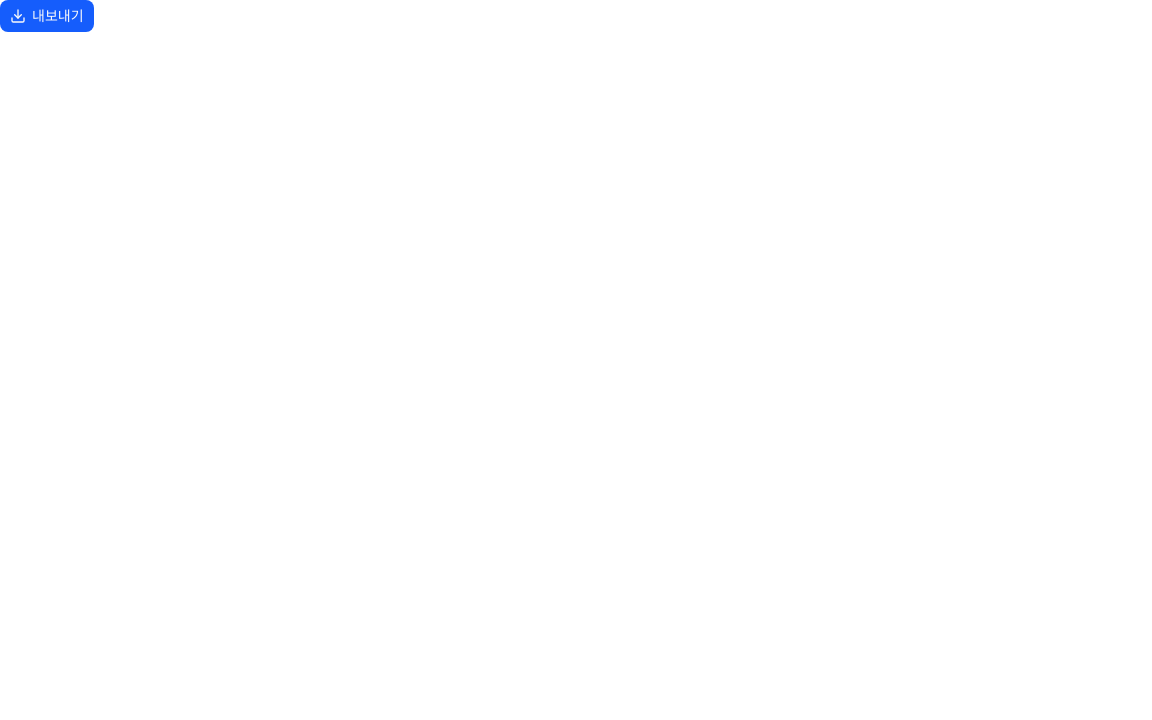
Test: 내보내기 › H.264가 아닌 코덱으로 내보내면 재생 호환성을 안내한다
The width and height of the screenshot is (1152, 720).
Click the button "내보내기". click: (47, 16)
box: [0, 0, 94, 32]
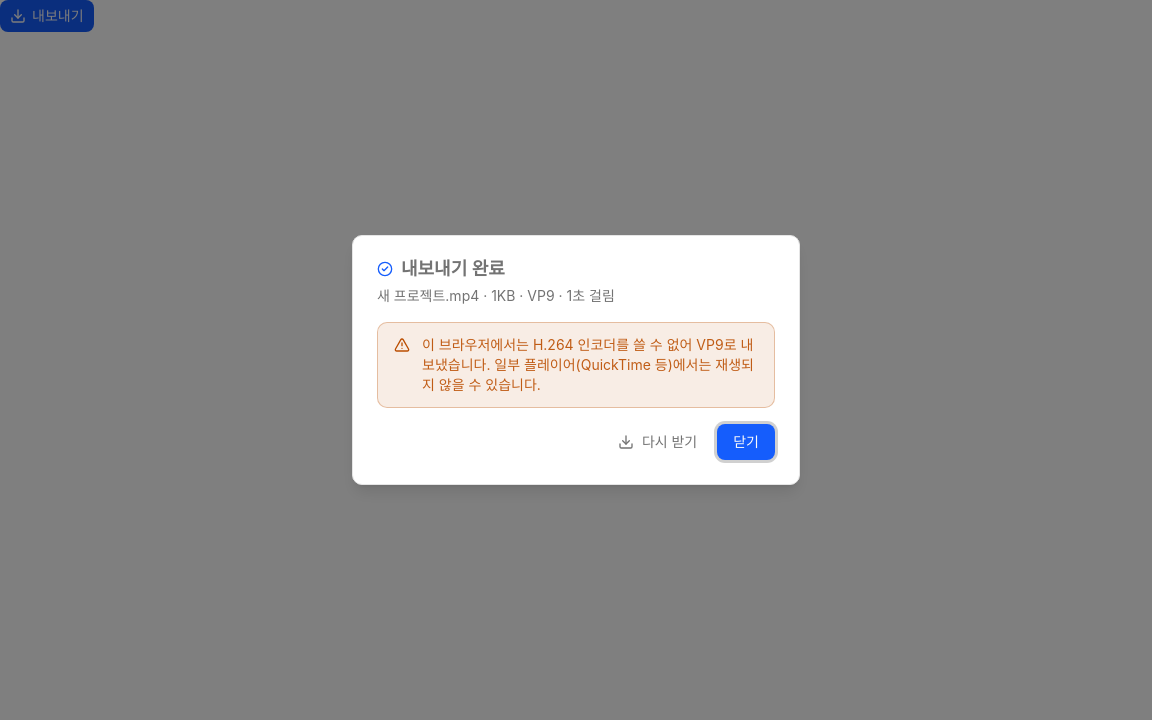
Now the text "H.264 인코더를 쓸 수 없어 VP9로 내보냈습니다" is shown, box [422, 335, 758, 395]
